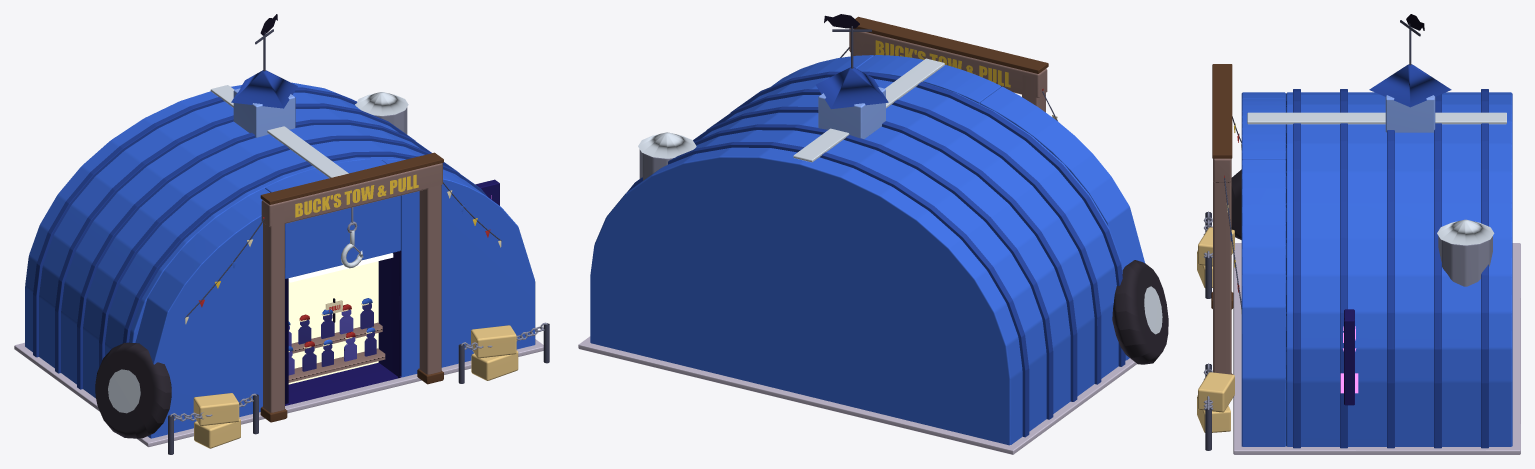
File: bucks_gym.glb
3 views of the same model, side by side, from view 1: azimuth 30°, elevation 25°; view 2: azimuth 150°, elevation 25°; view 3: azimuth 270°, elevation 25° (orthographic). The views are drawn at different scales.
Visible parts, largest first — view 1: Barn; view 2: Barn; view 3: Barn.
Part boxes in pixels (left/top/right/bottom): Barn: left=14, top=14, right=549, bottom=454; Barn: left=578, top=14, right=1168, bottom=454; Barn: left=1197, top=14, right=1520, bottom=454.
Size of the model in its own units: 9.49 by 6.77 by 5.86.
